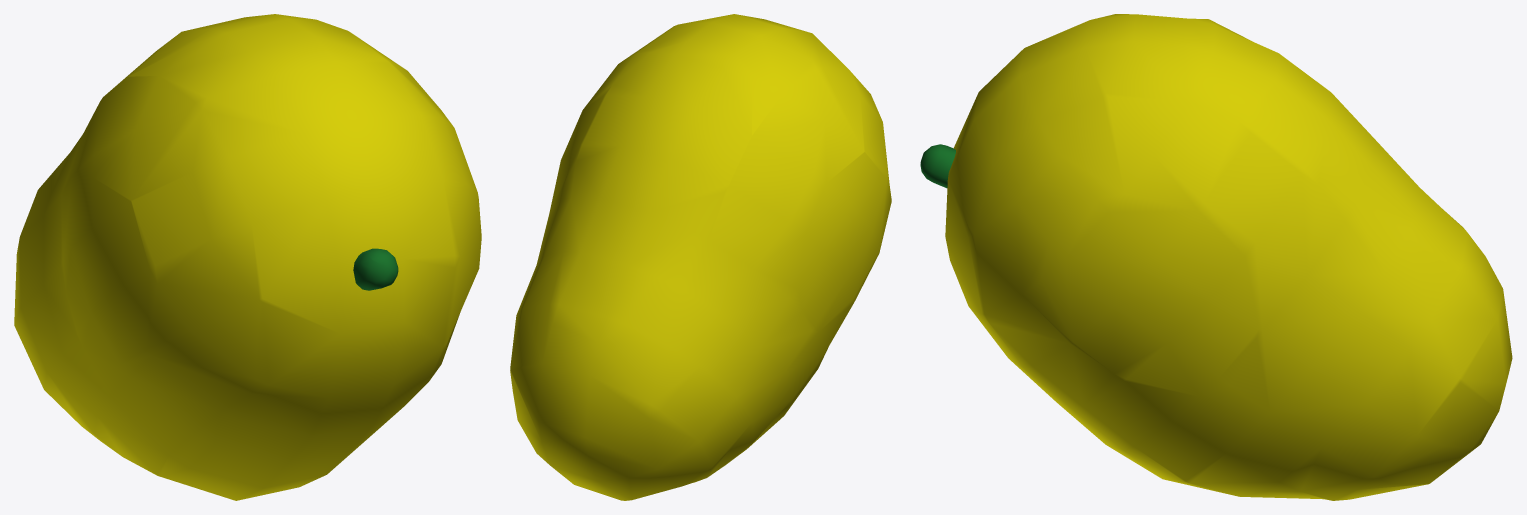
The model's file is Mango v328.fbx.
3 renders of one model, left to right at view 1: azimuth 30°, elevation 25°; view 2: azimuth 150°, elevation 25°; view 3: azimuth 270°, elevation 25°, orthographic. The views are drawn at different scales.
Visible parts, largest first — view 1: Mango; view 2: Mango; view 3: Mango.
Boxes of the visible parts, x1,y1,x2,y2 form: Mango: (14,14,481,500); Mango: (510,14,891,500); Mango: (920,14,1512,500).
Size of the model in its own units: 223 by 299 by 352.
